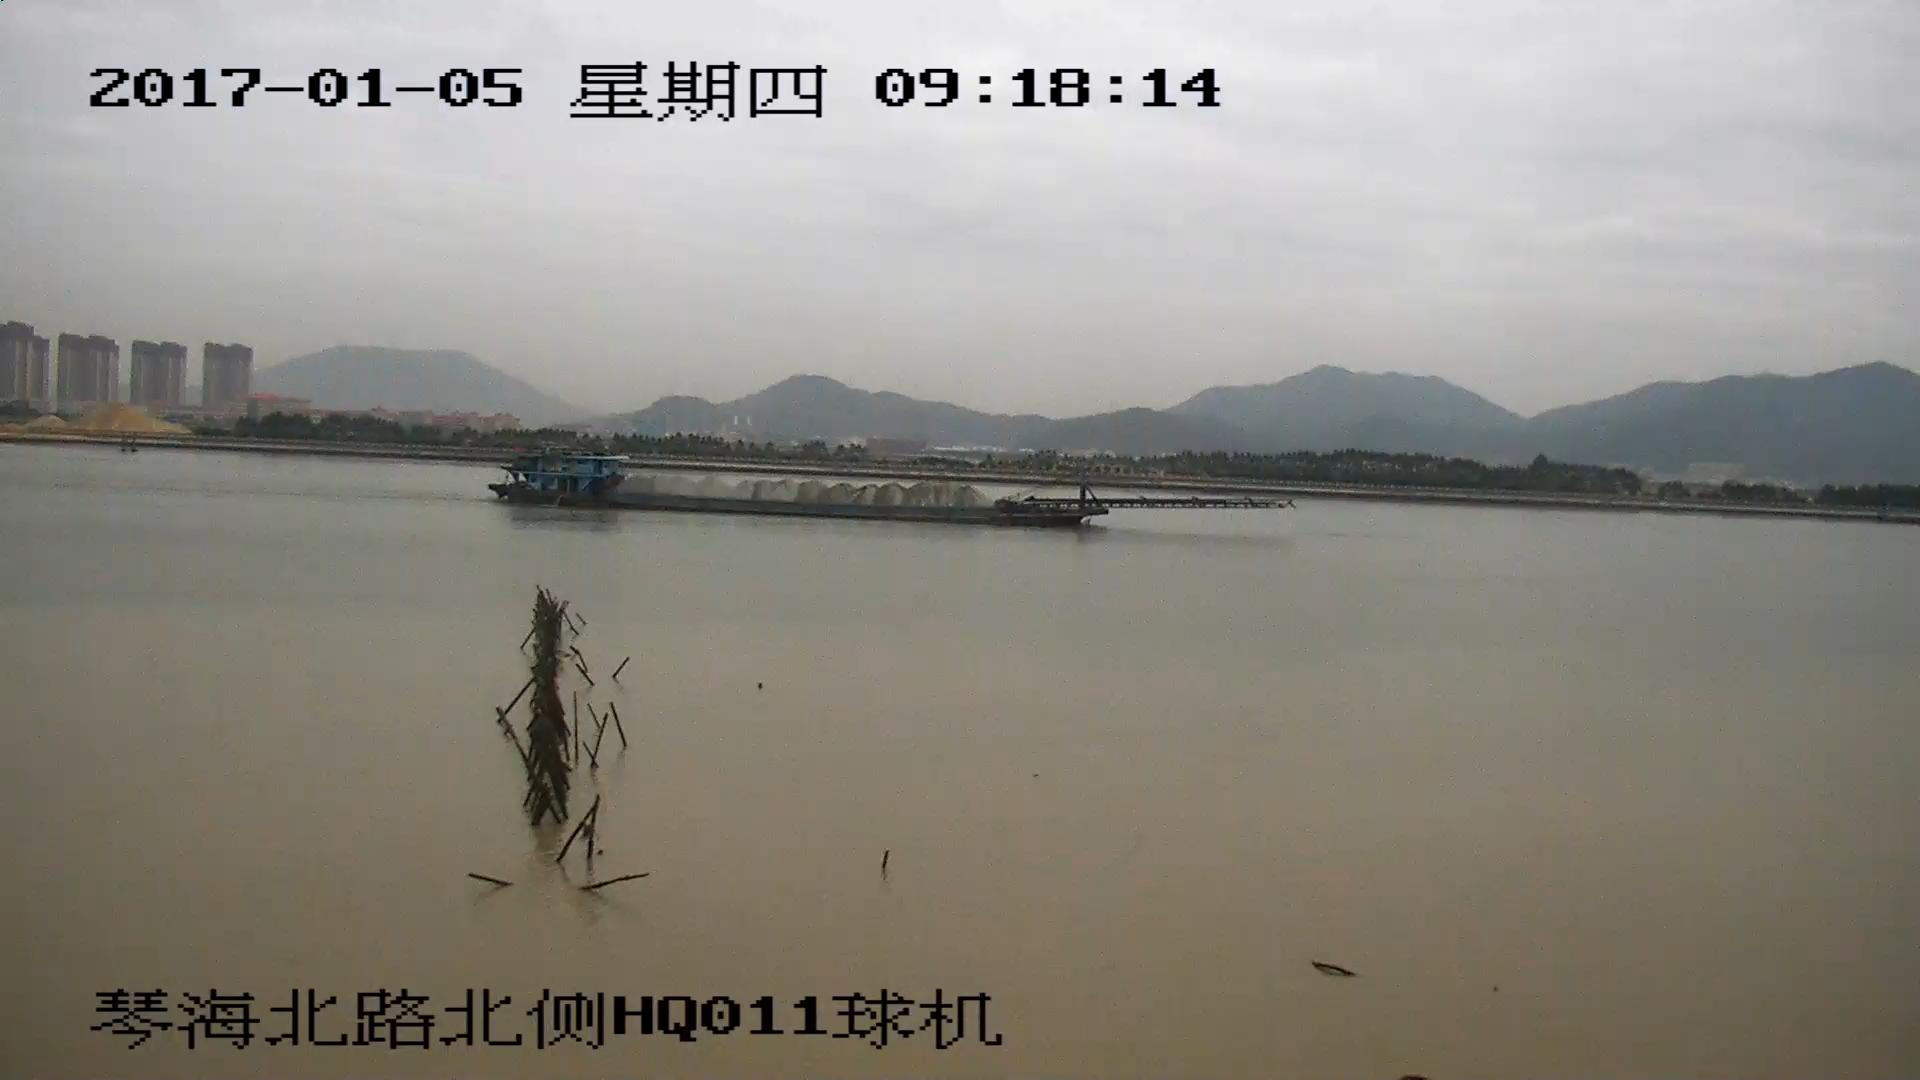ore carrier: (486, 446, 1278, 526)
